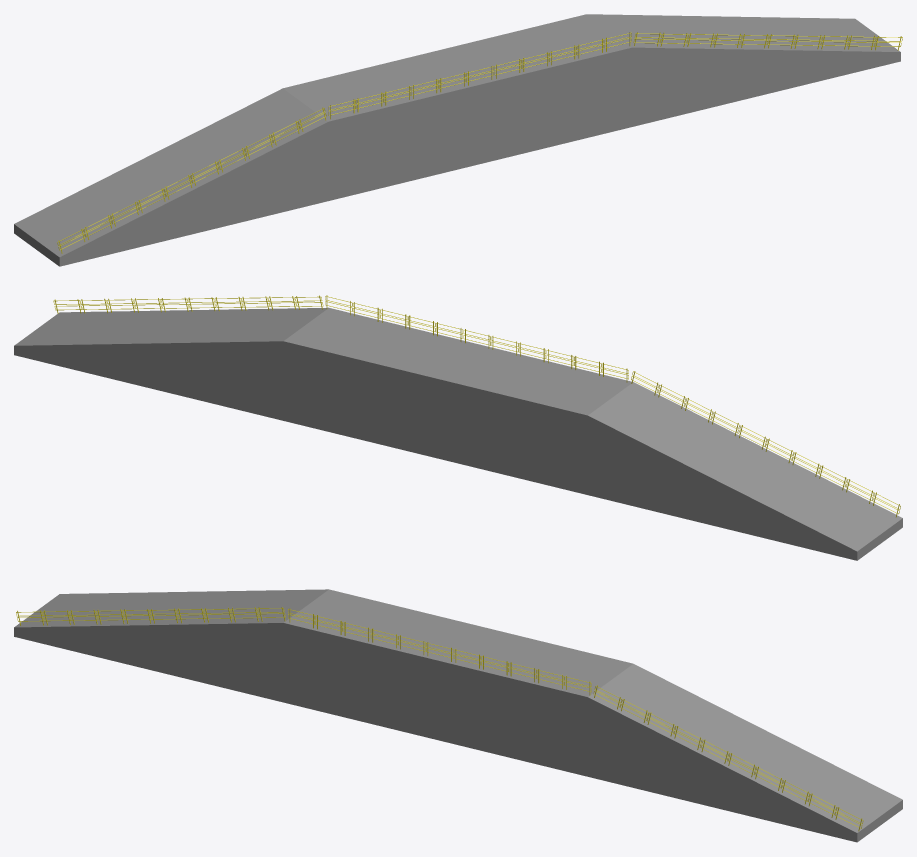
Rendered from mod_usina_SaoSimao_passagem_concreto.FBX.
3 views of the same model, one above another, from view 1: azimuth 30°, elevation 25°; view 2: azimuth 150°, elevation 25°; view 3: azimuth 330°, elevation 25° (orthographic).
Parts seen in each view (by area): view 1: passagem_corredor_mid, passagem_corredor_left, passagem_corredor_right, usina_SaoSimao_passagem_concreto_grade, usina_SaoSimao_passagem_concreto_grade002, usina_SaoSimao_passagem_concreto_grade001; view 2: passagem_corredor_mid, passagem_corredor_left, passagem_corredor_right, usina_SaoSimao_passagem_concreto_grade, usina_SaoSimao_passagem_concreto_grade002, usina_SaoSimao_passagem_concreto_grade001; view 3: passagem_corredor_mid, passagem_corredor_right, passagem_corredor_left, usina_SaoSimao_passagem_concreto_grade, usina_SaoSimao_passagem_concreto_grade001, usina_SaoSimao_passagem_concreto_grade002.
Part boxes in pixels (x1=…): passagem_corredor_mid: x1=283, y1=14, x2=632, y2=200; passagem_corredor_left: x1=14, y1=88, x2=328, y2=266; passagem_corredor_right: x1=587, y1=14, x2=900, y2=126; usina_SaoSimao_passagem_concreto_grade: x1=328, y1=32, x2=631, y2=119; usina_SaoSimao_passagem_concreto_grade002: x1=633, y1=32, x2=902, y2=50; usina_SaoSimao_passagem_concreto_grade001: x1=57, y1=107, x2=326, y2=253; passagem_corredor_mid: x1=283, y1=308, x2=632, y2=494; passagem_corredor_left: x1=588, y1=382, x2=902, y2=560; passagem_corredor_right: x1=14, y1=307, x2=328, y2=420; usina_SaoSimao_passagem_concreto_grade: x1=325, y1=295, x2=628, y2=382; usina_SaoSimao_passagem_concreto_grade002: x1=53, y1=295, x2=323, y2=313; usina_SaoSimao_passagem_concreto_grade001: x1=631, y1=371, x2=900, y2=517; passagem_corredor_mid: x1=283, y1=589, x2=632, y2=776; passagem_corredor_right: x1=588, y1=664, x2=902, y2=842; passagem_corredor_left: x1=14, y1=589, x2=328, y2=702; usina_SaoSimao_passagem_concreto_grade: x1=288, y1=608, x2=591, y2=695; usina_SaoSimao_passagem_concreto_grade001: x1=16, y1=607, x2=285, y2=625; usina_SaoSimao_passagem_concreto_grade002: x1=593, y1=685, x2=863, y2=831.
Bounding box in the file's own units: 5569 × 589 × 520.
